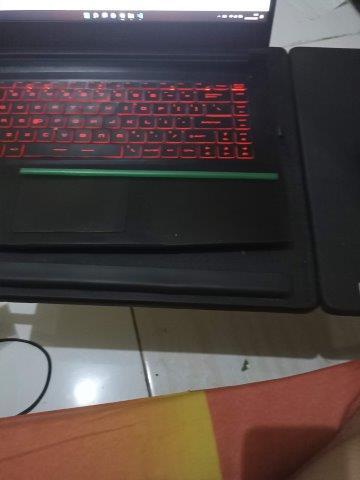sedotan: (19, 168, 278, 180)
